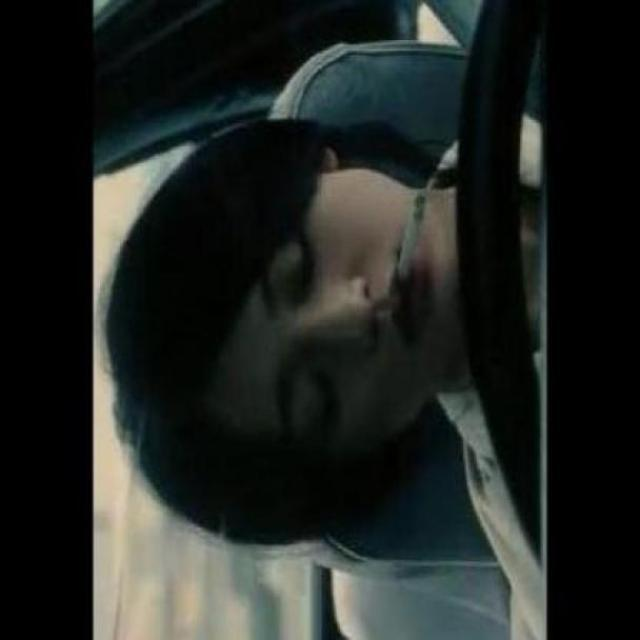rokok: (389, 184, 441, 308)
